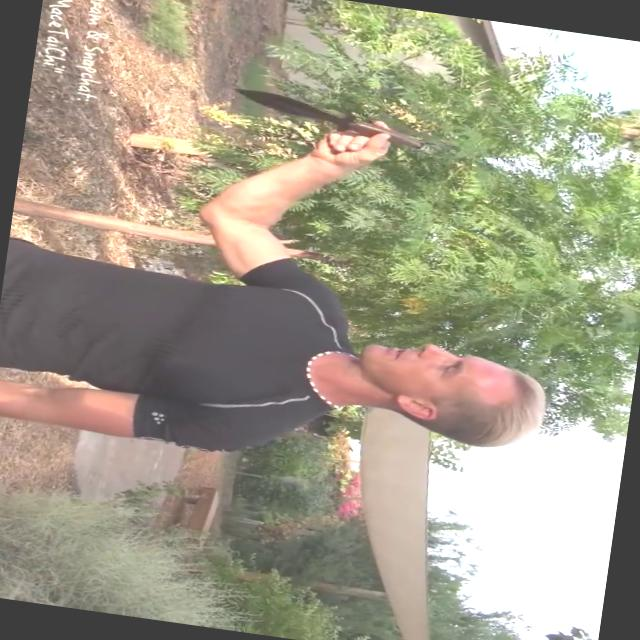knife: (230, 75, 446, 160)
